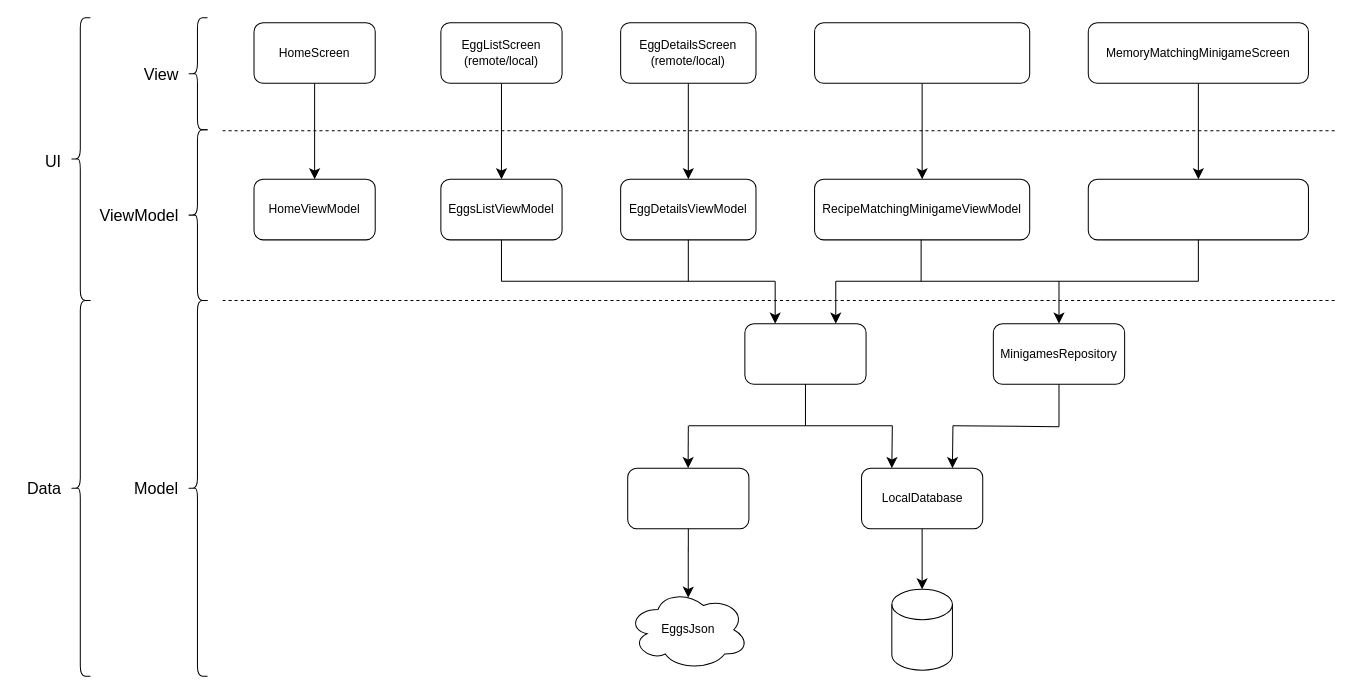
The diagram is 1354 pixels wide and 694 high, and some of its shapes have lost their labels. Each missing label, with the centre of its shape:
EggsRepository: pixel 805 353
MemoryMatchingMinigameViewModel: pixel 1197 209
RecipeMatchingMinigameScreen: pixel 922 52
RemoteEggsApi: pixel 688 498
SQLite: pixel 921 629
